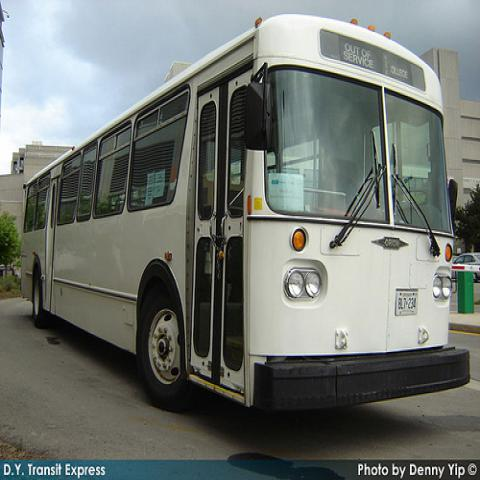bus: (18, 16, 471, 411)
car: (451, 253, 480, 282)
